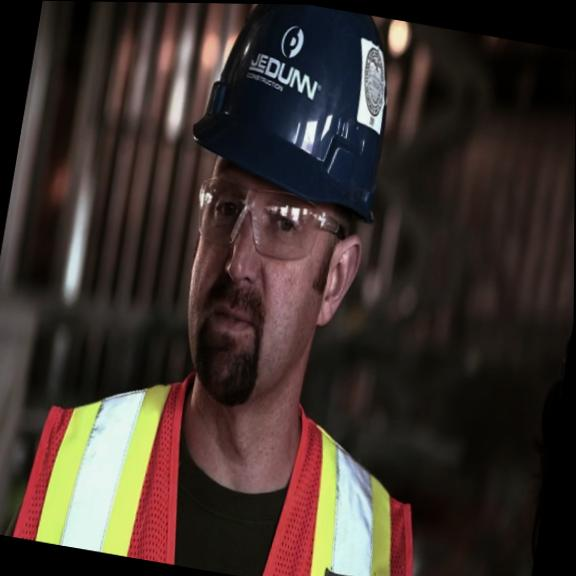safety_vest: (11, 343, 448, 576)
